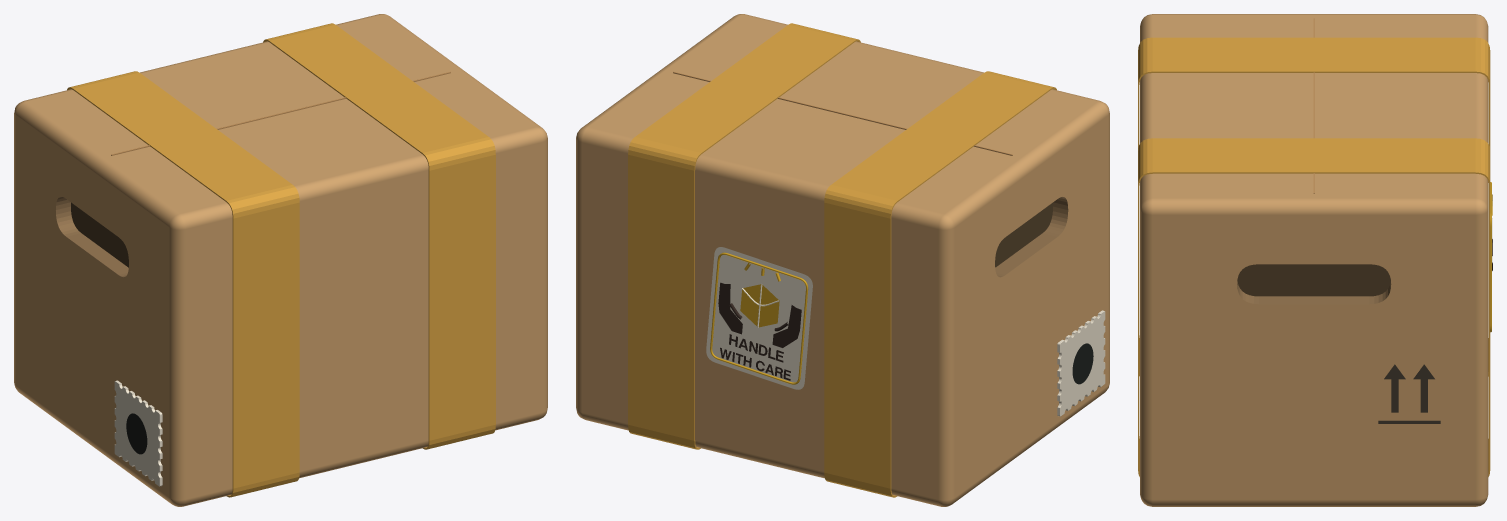
File: play-parcel-large-yellow.glb
3 renders of one model, left to right at view 1: azimuth 30°, elevation 25°; view 2: azimuth 150°, elevation 25°; view 3: azimuth 270°, elevation 25°, orthographic. The views are drawn at different scales.
Parts seen in each view (by area): view 1: Parcel_Carton, Parcel_Tape_Parallel_1, Parcel_Tape_Parallel_2, Parcel_Paper_Label, Parcel_Carry_Slot_Walls_Negative_X, Parcel_Carry_Slot_Interior_Negative_X, Parcel_Label_Circle; view 2: Parcel_Carton, Parcel_Tape_Parallel_1, Parcel_Tape_Parallel_2, Parcel_Care_H3_Paper, Parcel_Paper_Label, Parcel_Carry_Slot_Walls_Negative_X, Parcel_Carry_Slot_Interior_Negative_X, Parcel_Care_H3_Box, Parcel_Care_H3_Gold_Border, Parcel_Label_Circle, Parcel_Care_H3_Left_Hand, Parcel_Care_H3_Right_Hand; view 3: Parcel_Carton, Parcel_Tape_Parallel_2, Parcel_Tape_Parallel_1, Parcel_Carry_Slot_Interior_Positive_X, Parcel_Carry_Slot_Walls_Positive_X, Parcel_Up_Arrows_Positive_X.
Part boxes in pixels (x1,y1,x2,y2): Parcel_Carton: (14,14,547,506); Parcel_Tape_Parallel_1: (67,71,299,497); Parcel_Tape_Parallel_2: (263,23,495,449); Parcel_Paper_Label: (114,380,162,486); Parcel_Carry_Slot_Walls_Negative_X: (56,196,128,277); Parcel_Carry_Slot_Interior_Negative_X: (71,202,128,267); Parcel_Label_Circle: (126,413,147,454); Parcel_Carton: (576,14,1109,506); Parcel_Tape_Parallel_1: (824,71,1056,497); Parcel_Tape_Parallel_2: (628,23,860,449); Parcel_Care_H3_Paper: (706,247,812,389); Parcel_Paper_Label: (1057,310,1105,416); Parcel_Carry_Slot_Walls_Negative_X: (995,197,1068,277); Parcel_Carry_Slot_Interior_Negative_X: (995,202,1052,267); Parcel_Care_H3_Box: (740,284,779,327); Parcel_Care_H3_Gold_Border: (710,252,808,384); Parcel_Label_Circle: (1072,343,1093,384); Parcel_Care_H3_Left_Hand: (718,282,742,334); Parcel_Care_H3_Right_Hand: (772,305,801,347); Parcel_Carton: (1140,14,1488,506); Parcel_Tape_Parallel_2: (1138,138,1490,476); Parcel_Tape_Parallel_1: (1138,37,1490,376); Parcel_Carry_Slot_Interior_Positive_X: (1237,264,1390,296); Parcel_Carry_Slot_Walls_Positive_X: (1237,281,1391,304); Parcel_Up_Arrows_Positive_X: (1378,364,1440,423).
Bounding box in the file's own units: 0.2526 × 0.187 × 0.1935.
